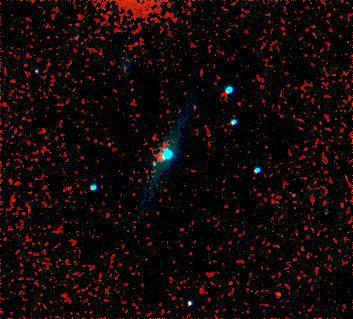star: (263, 279, 293, 309)
